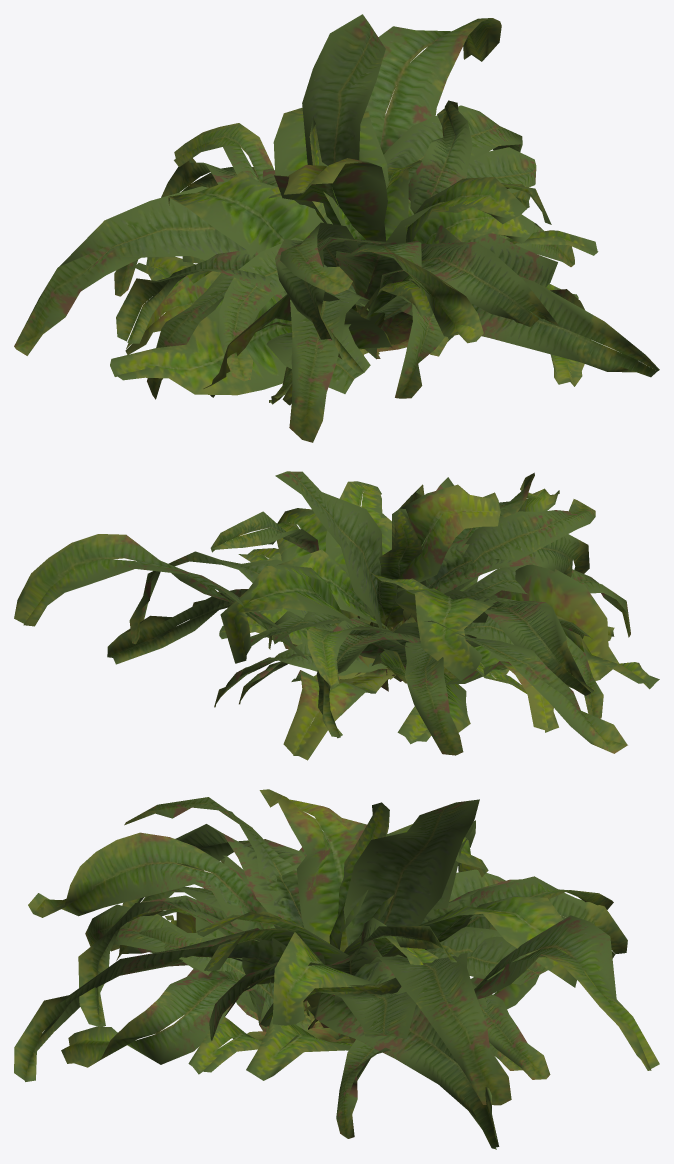
File: ph_fern_02.glb
3 views of the same model, one above another, from view 1: azimuth 30°, elevation 25°; view 2: azimuth 150°, elevation 25°; view 3: azimuth 270°, elevation 25° (orthographic). The views are drawn at different scales.
Parts seen in each view (by area): view 1: v0, v1, v2, v3; view 2: v0, v1, v3, v2; view 3: v0, v1, v3, v2.
Part boxes in pixels (left/top/right/bottom): v0: left=14, top=14, right=659, bottom=442; v1: left=110, top=116, right=590, bottom=405; v2: left=135, top=237, right=578, bottom=404; v3: left=194, top=100, right=557, bottom=356; v0: left=14, top=471, right=630, bottom=760; v1: left=107, top=477, right=659, bottom=755; v3: left=210, top=511, right=527, bottom=707; v2: left=267, top=553, right=614, bottom=744; v0: left=14, top=789, right=659, bottom=1138; v1: left=61, top=797, right=613, bottom=1149; v3: left=116, top=895, right=550, bottom=1079; v2: left=128, top=899, right=404, bottom=1074.
Size of the model in its own units: 0.9915 by 0.426 by 0.8954.
Materials: 1 (1 with a texture image).
